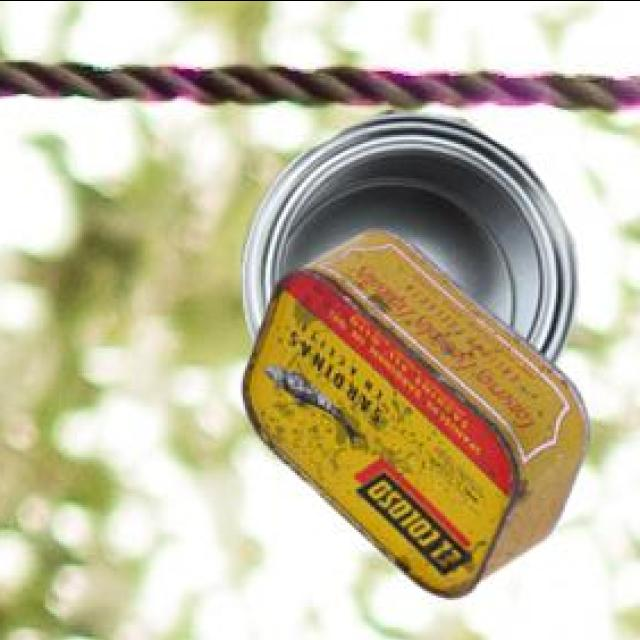logam: (246, 226, 593, 593), (246, 108, 580, 362)
